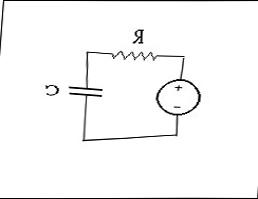Battery: (143, 71, 210, 122)
